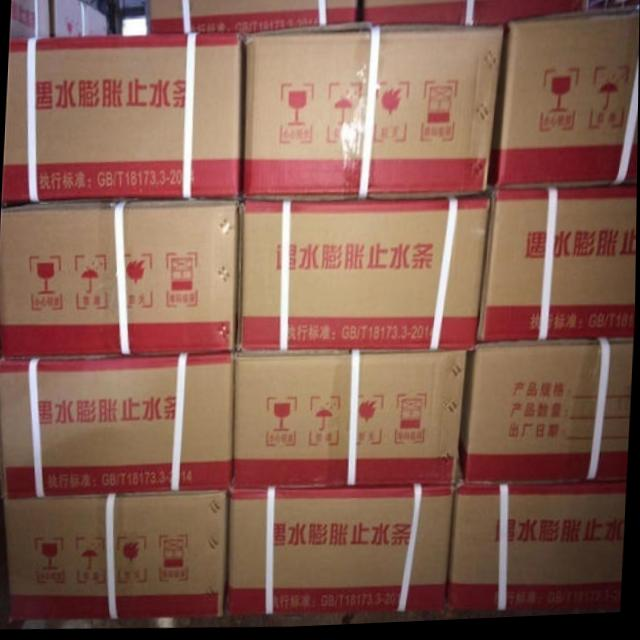box: (239, 27, 506, 200), (2, 34, 243, 203), (235, 197, 494, 350), (0, 196, 243, 353), (234, 345, 470, 489), (0, 354, 233, 497), (229, 488, 456, 616), (5, 492, 232, 617), (491, 15, 640, 194), (476, 190, 638, 345), (458, 346, 633, 487), (447, 488, 626, 612), (147, 0, 358, 34), (359, 0, 589, 29), (52, 0, 107, 36), (11, 0, 53, 38)
